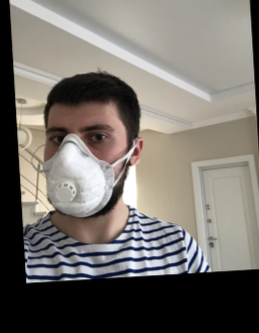with_mask: (42, 117, 127, 219)
